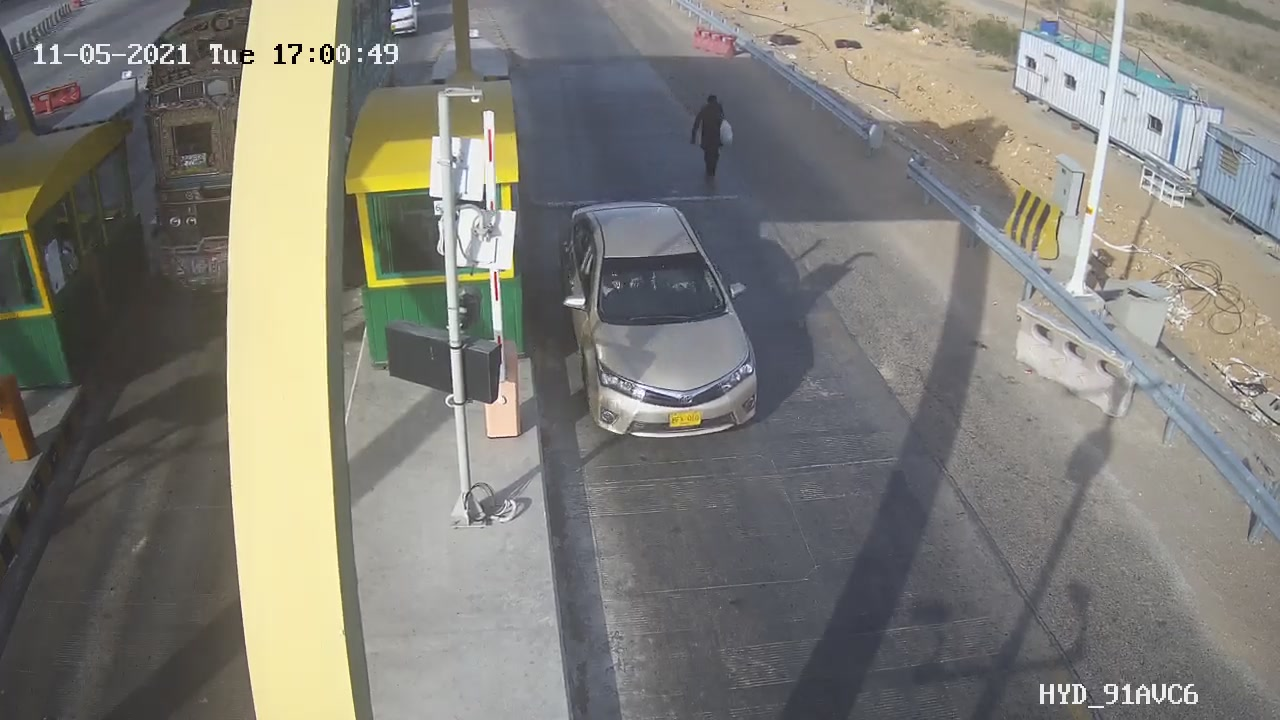F1: (533, 182, 787, 465)
